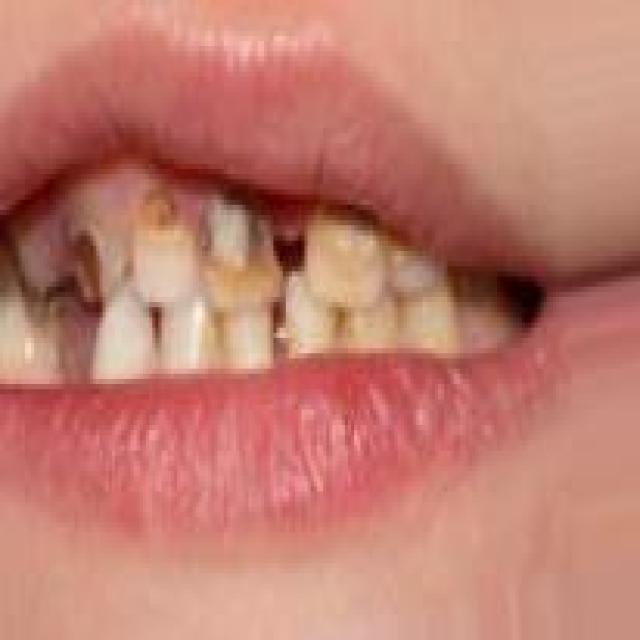caries: (196, 184, 290, 323), (133, 188, 195, 306), (64, 207, 124, 310)
